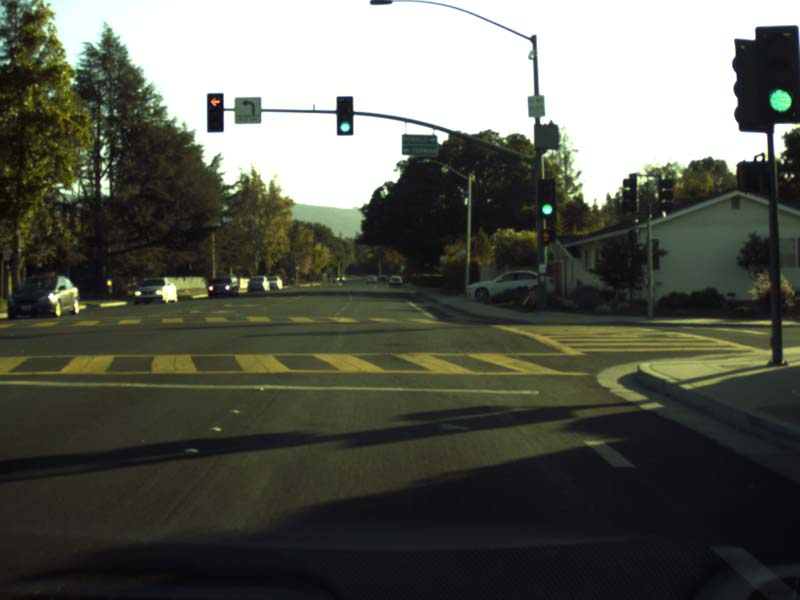Green: (538, 180, 556, 218), (336, 96, 352, 134)
Red: (206, 92, 223, 130)
